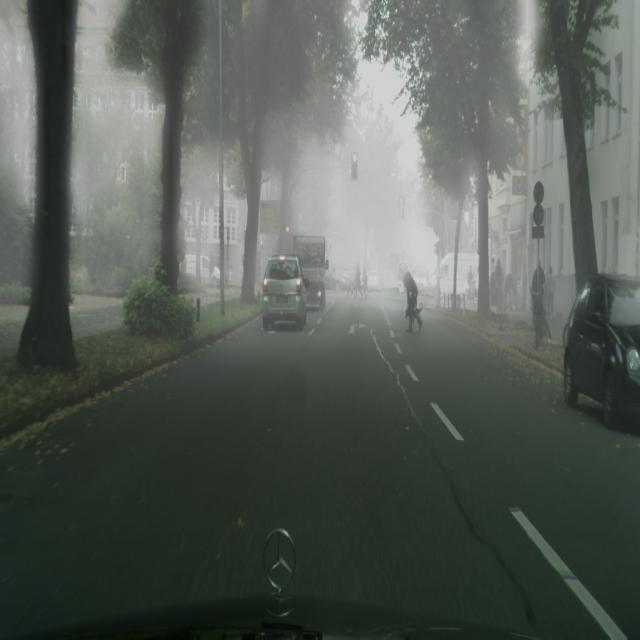person: (531, 258, 549, 350), (402, 268, 421, 331), (544, 266, 555, 319), (504, 271, 518, 311), (494, 259, 504, 312)
truck: (562, 272, 640, 431), (262, 255, 308, 332), (413, 266, 429, 292), (324, 269, 342, 291), (367, 269, 382, 291)
